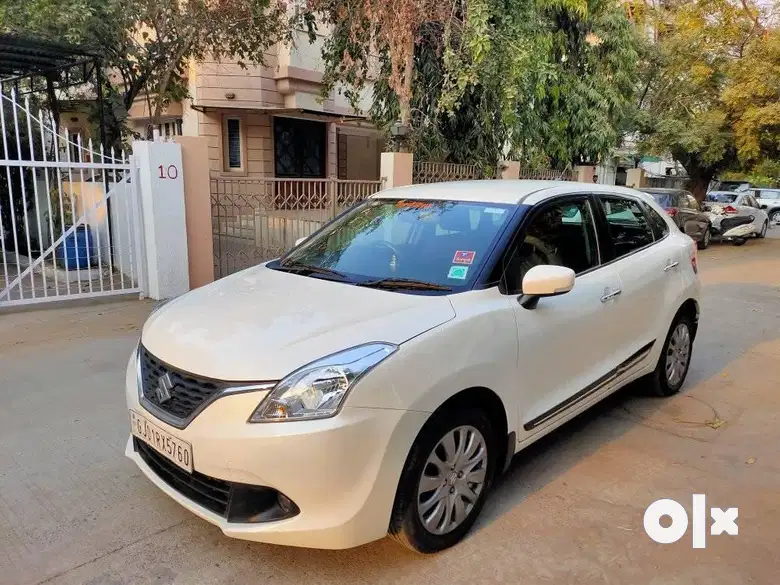car: (107, 180, 711, 561)
numberplate: (128, 412, 192, 478)
